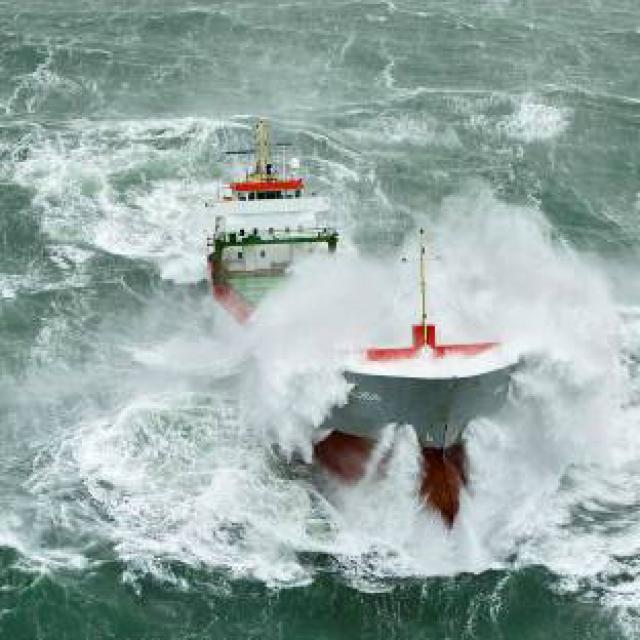cargoship: (206, 118, 516, 522)
